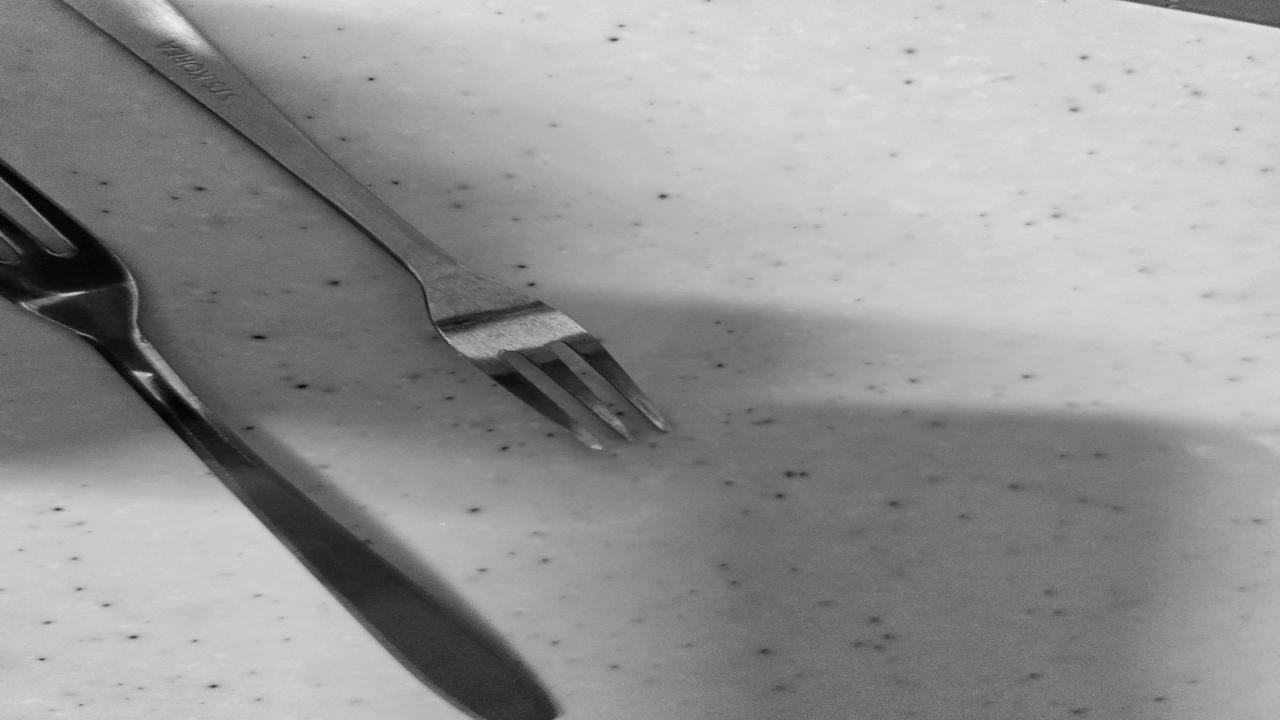fork: (0, 158, 573, 720), (5, 1, 672, 448)
